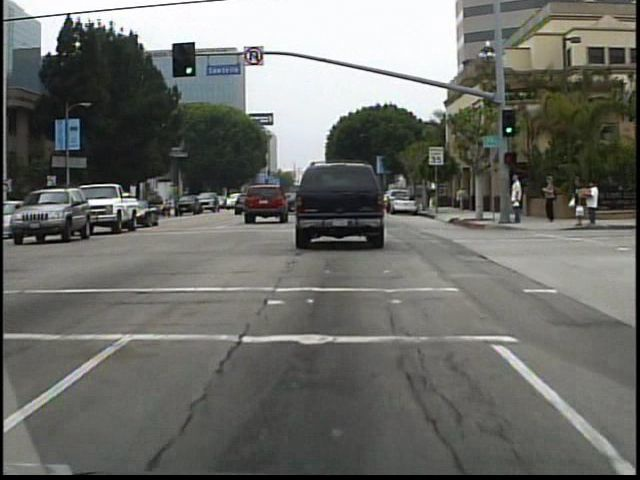person: (505, 171, 525, 228), (539, 174, 558, 226), (453, 184, 467, 215), (421, 184, 433, 212)
